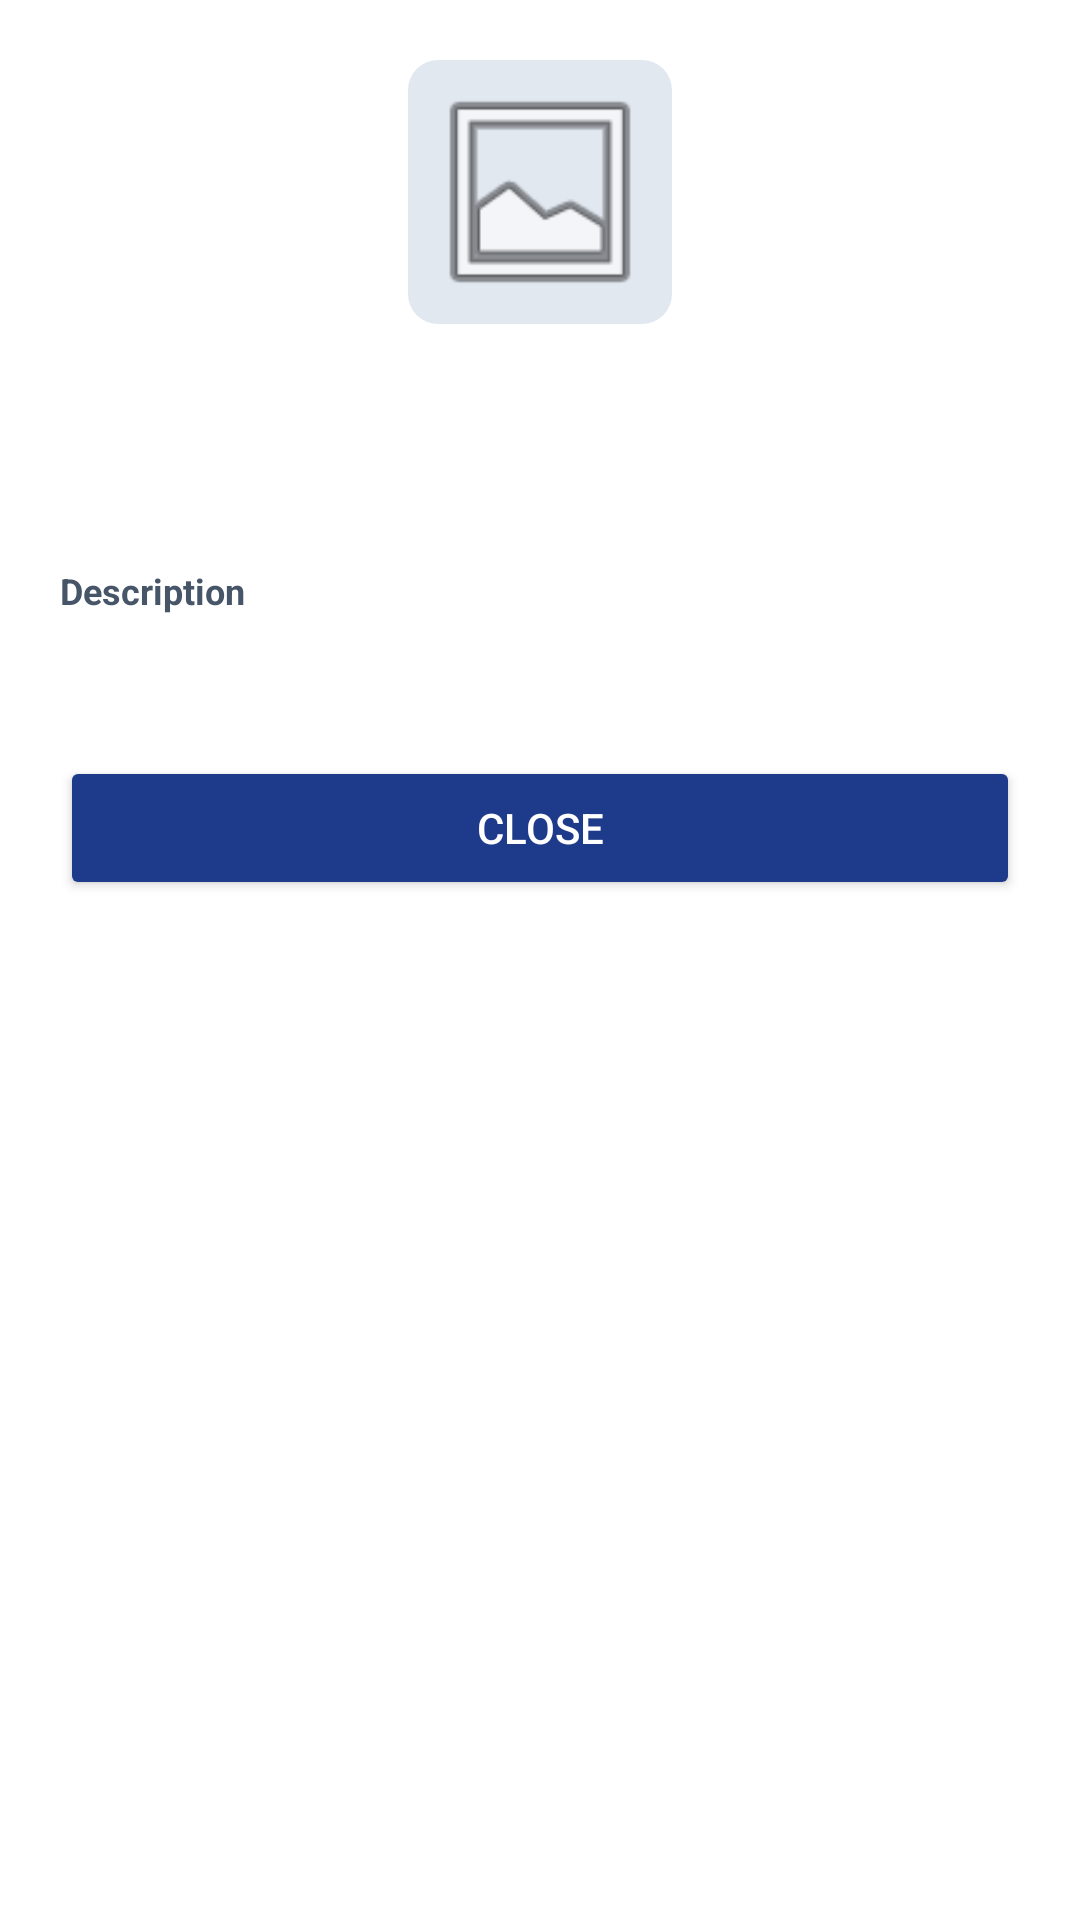

Screen size 1080w x 1920h. Icon name, then its box in pixels as (x1, y1, x2, y2):
gallery: (408, 60, 672, 324)
